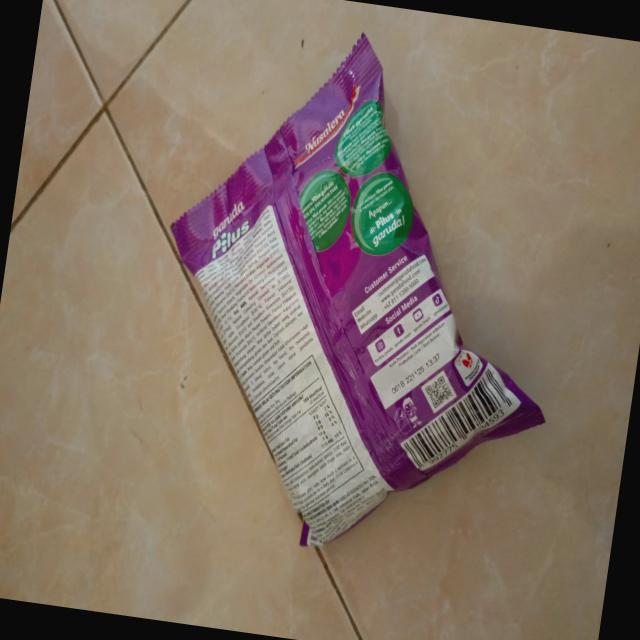pilus-rendang: (125, 9, 598, 578)
